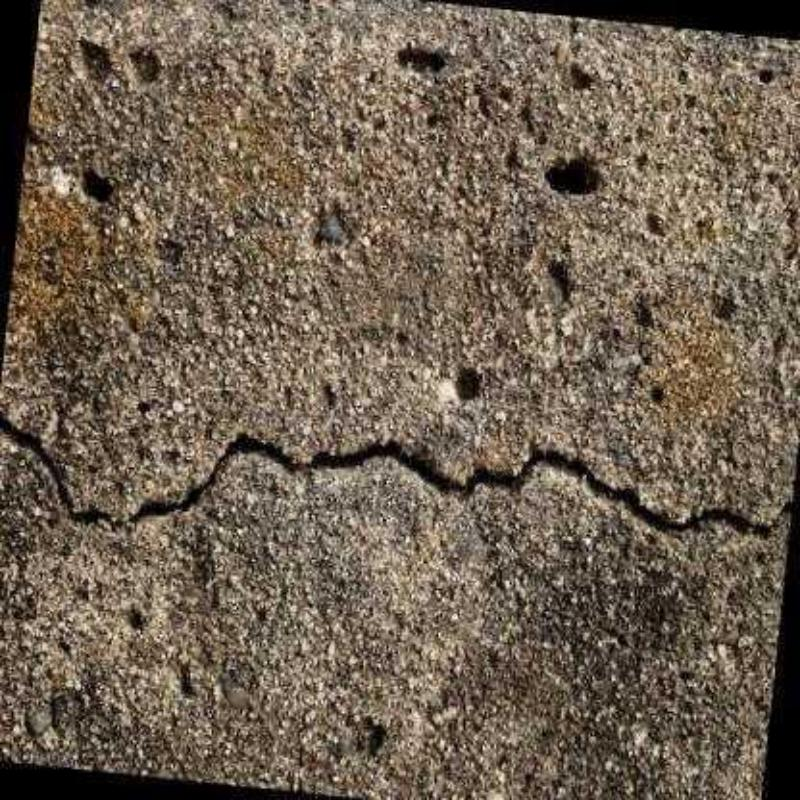pothole: (0, 410, 792, 533)
